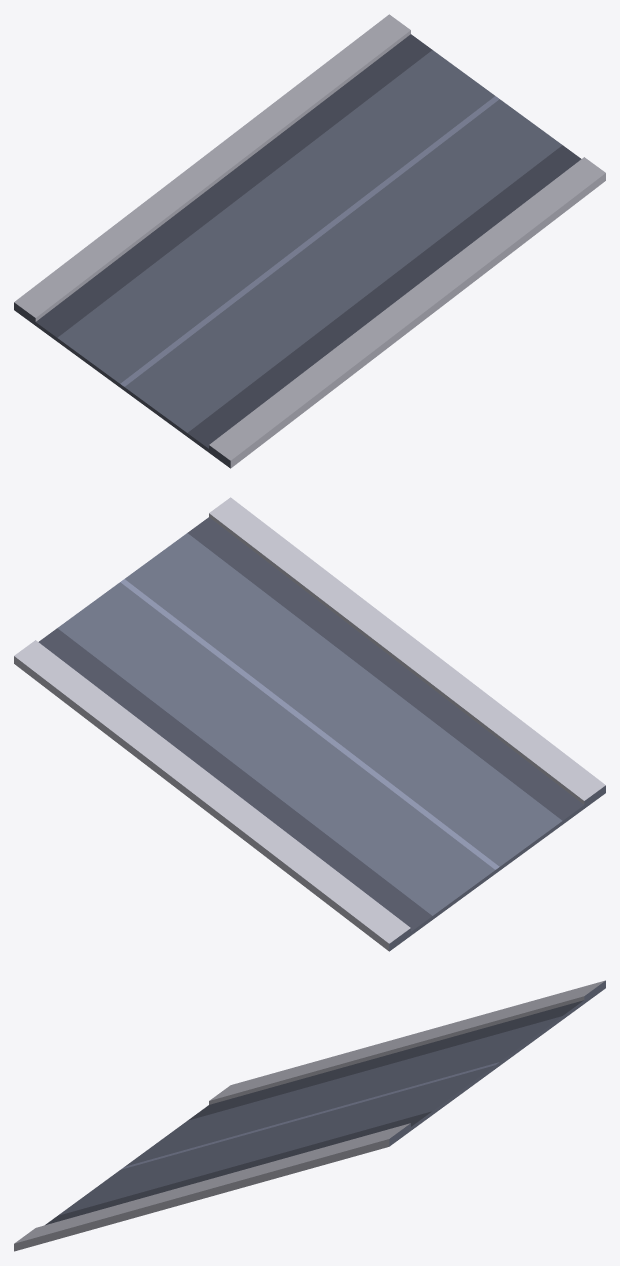
The model's file is road_slantFlatHigh.fbx.
3 views of the same model, one above another, from view 1: azimuth 30°, elevation 25°; view 2: azimuth 150°, elevation 25°; view 3: azimuth 330°, elevation 25° (orthographic).
Visible parts, largest first — view 1: road_slantFlatHigh; view 2: road_slantFlatHigh; view 3: road_slantFlatHigh.
Boxes of the visible parts, box(x1,y1,x2,y2) form: road_slantFlatHigh: box(14, 14, 605, 468); road_slantFlatHigh: box(14, 497, 605, 951); road_slantFlatHigh: box(14, 980, 605, 1251).
Bounding box in the file's own units: 10 × 5.2 × 10.
